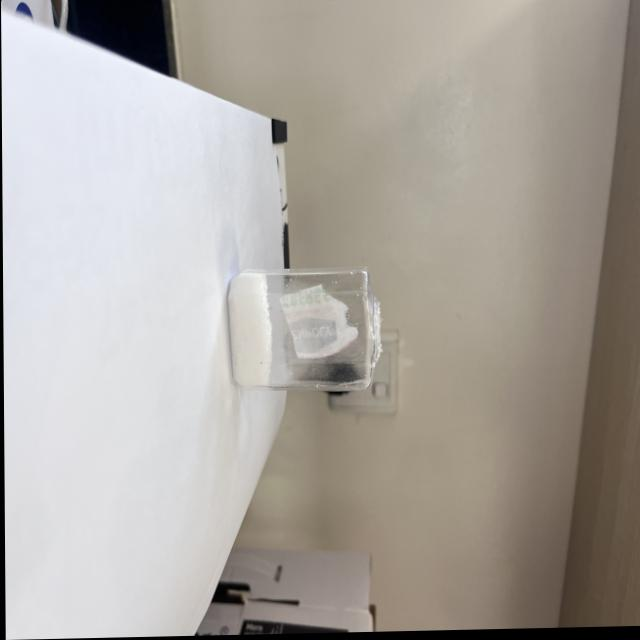salt: (226, 270, 274, 393)
